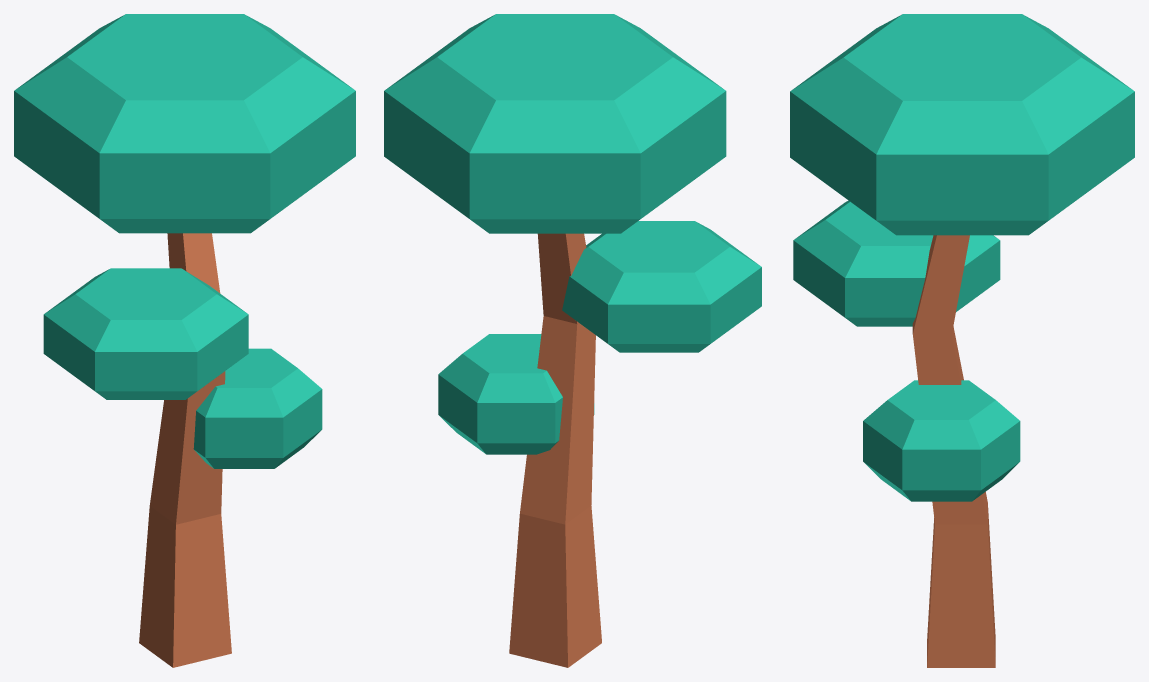
The model's file is tree_plateau.dae.
3 views of the same model, side by side, from view 1: azimuth 30°, elevation 25°; view 2: azimuth 150°, elevation 25°; view 3: azimuth 270°, elevation 25° (orthographic).
Parts seen in each view (by area): view 1: tree_plateau; view 2: tree_plateau; view 3: tree_plateau.
Part boxes in pixels (x1,y1,x2,y2): tree_plateau: (14,14,355,667); tree_plateau: (384,14,761,667); tree_plateau: (790,14,1134,667).
Size of the model in its own units: 0.6117 by 1.25 by 0.6549.
